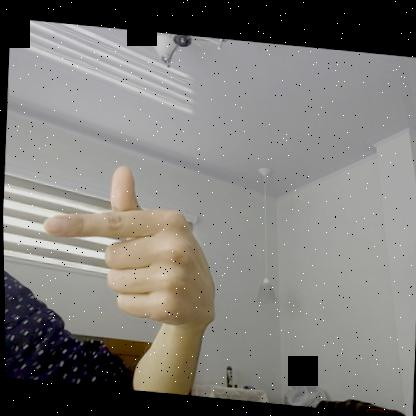T: (39, 158, 223, 336)
